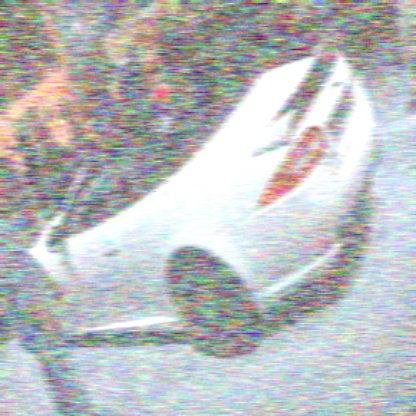Vehicle: (28, 27, 381, 362)
